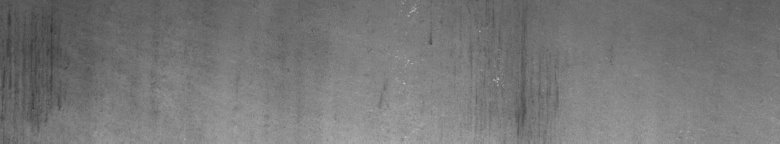ka: (4, 13, 64, 136)
